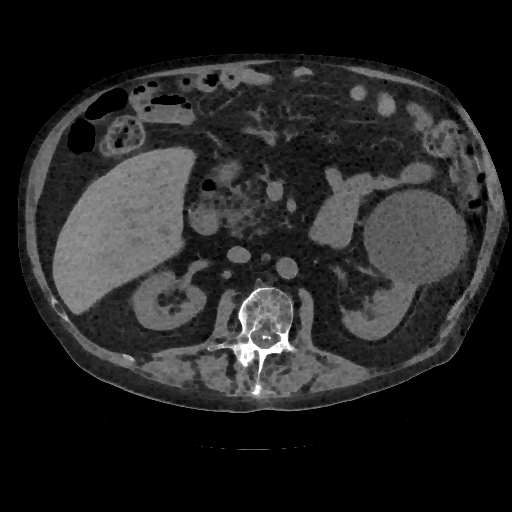Lesion: (359, 185, 470, 289)
